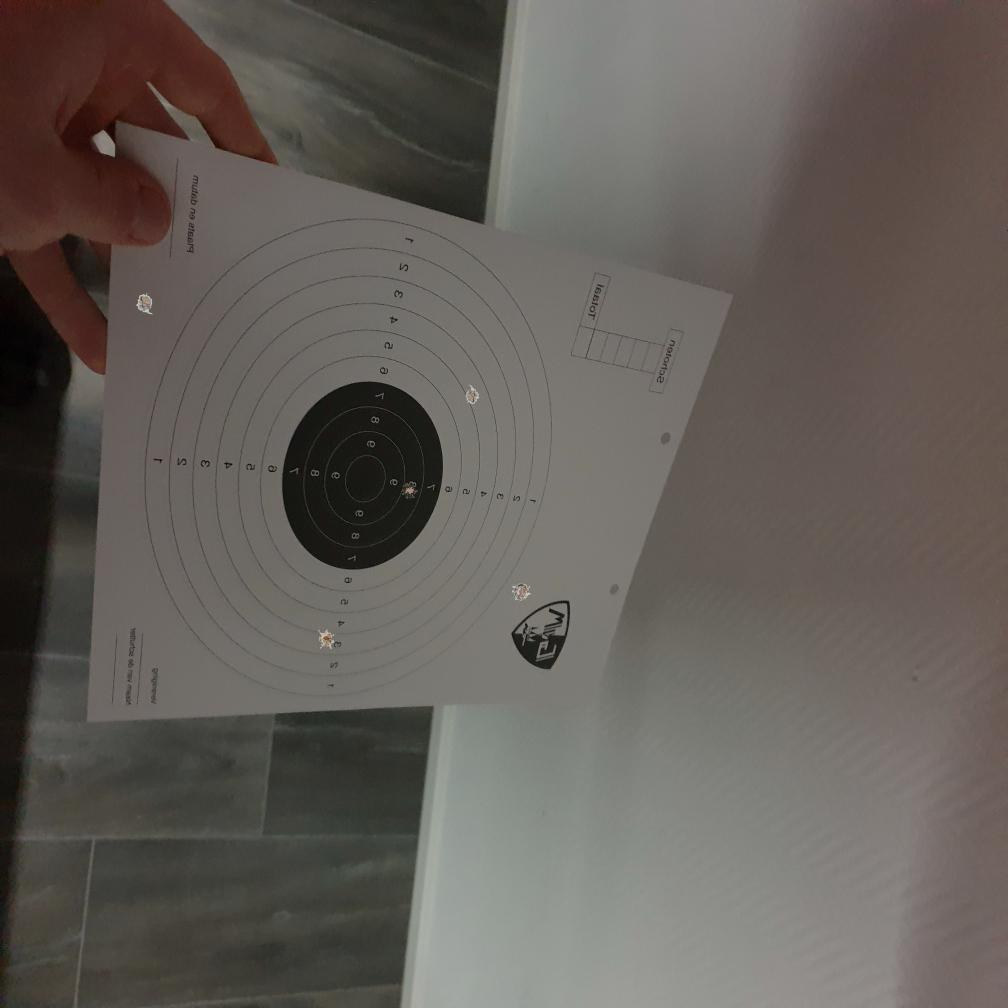0: (137, 293, 154, 315), (512, 583, 531, 600)
4: (318, 628, 335, 649)
5: (465, 384, 479, 404)
9: (400, 483, 418, 499)
Target: (144, 218, 552, 699)
black_contour: (282, 380, 444, 570)
